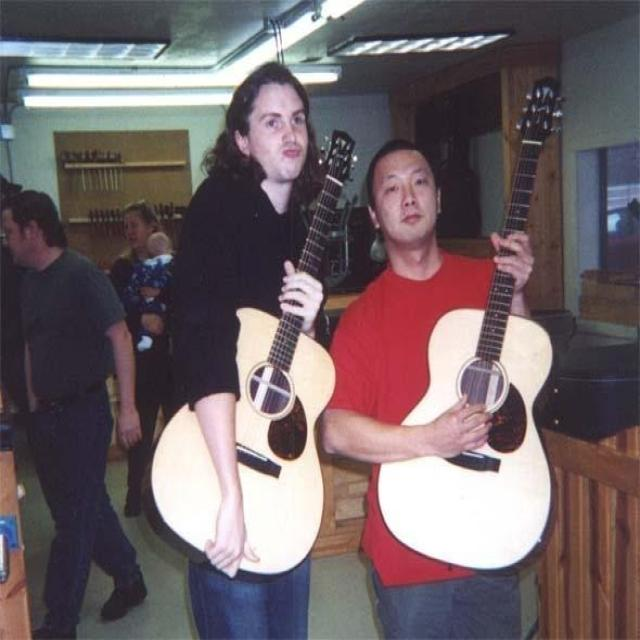guitar: (142, 128, 358, 580), (373, 70, 568, 570)
